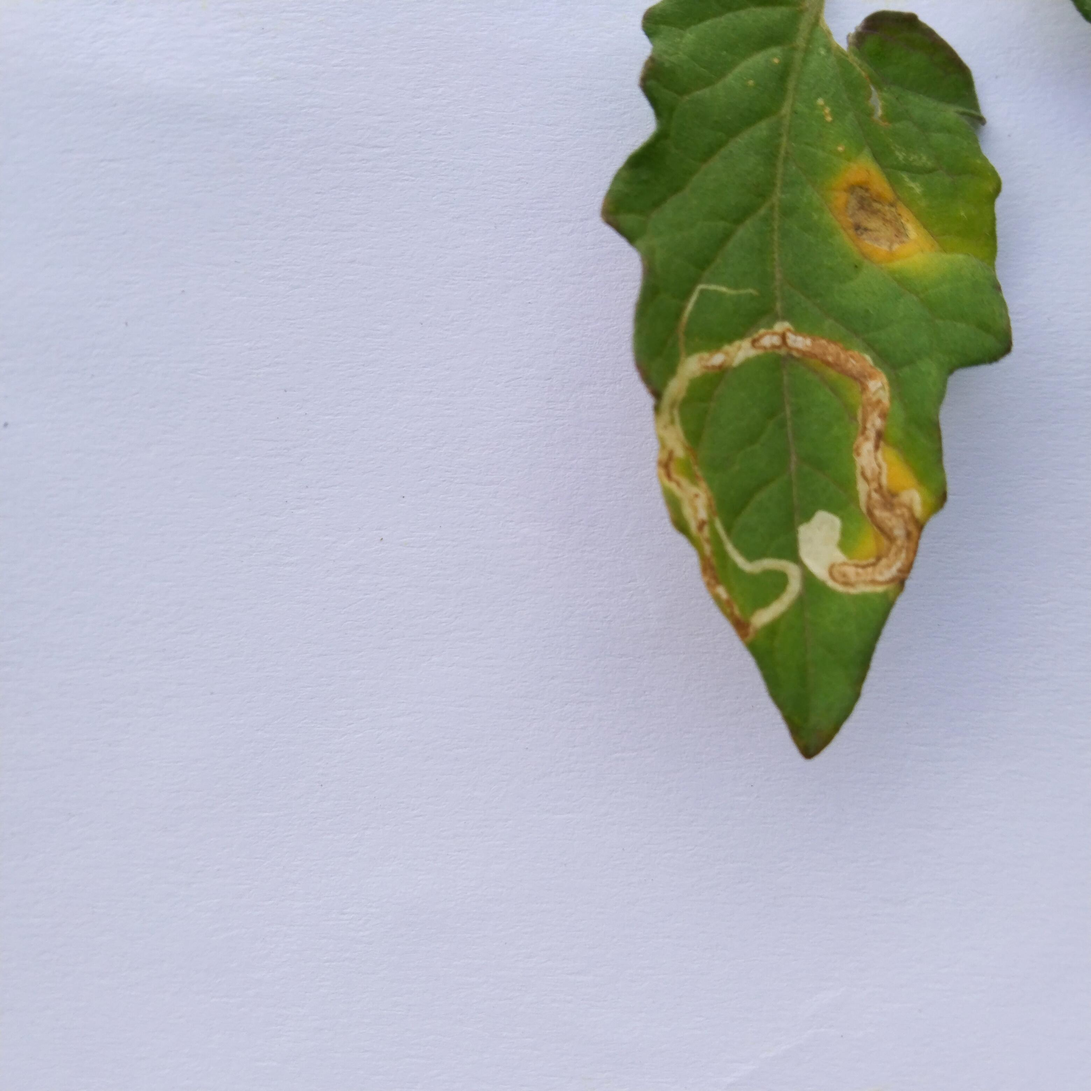Leaf_Miner: (594, 0, 1011, 755)
